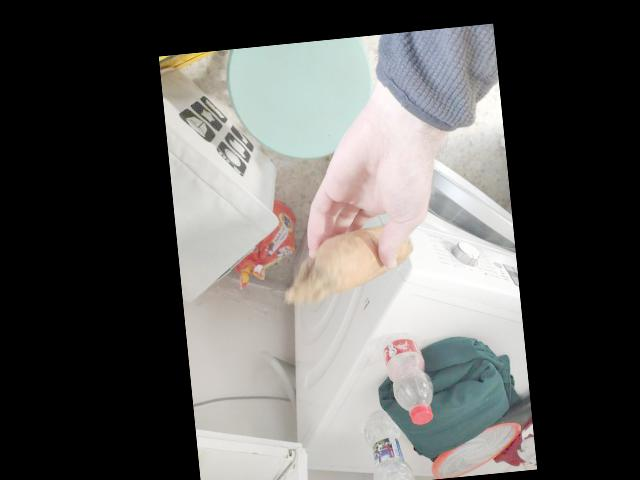sweet_potato: (314, 229, 401, 293)
